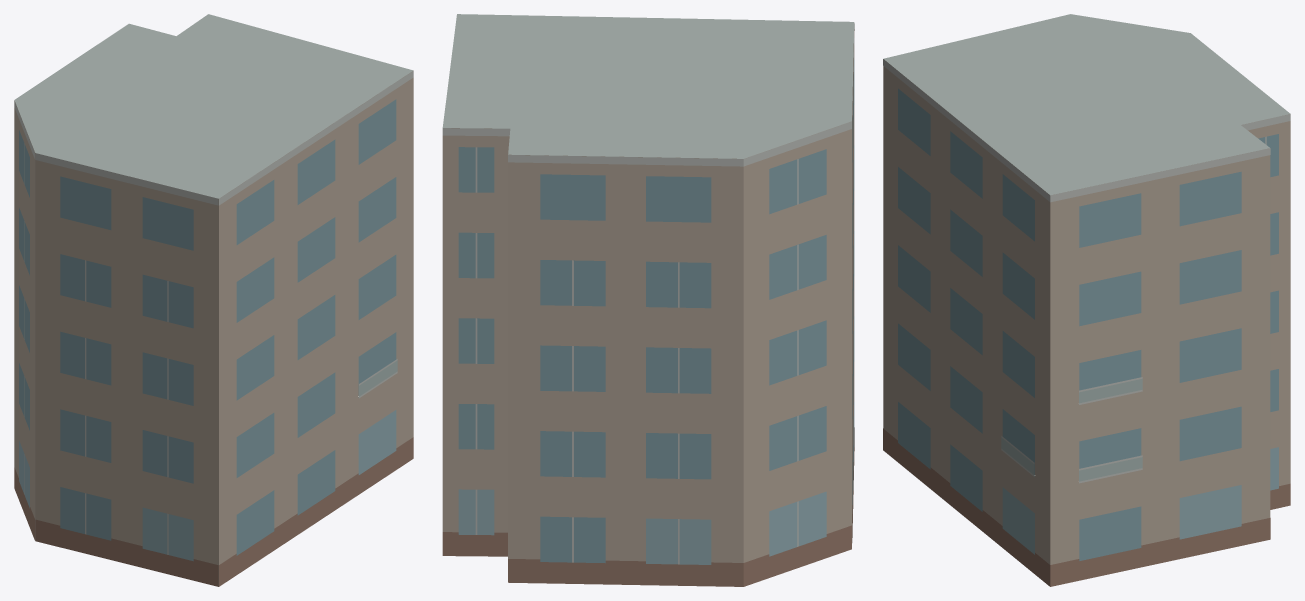
File: survey-upis-32945384.glb
The picture shows the model from 3 angles, left to right: view 1: azimuth 30°, elevation 25°; view 2: azimuth 150°, elevation 25°; view 3: azimuth 270°, elevation 25°; orthographic projection. The views are drawn at different scales.
Visible parts, largest first — view 1: survey-upis-32945384.tmp; view 2: survey-upis-32945384.tmp; view 3: survey-upis-32945384.tmp.
Boxes of the visible parts, box(x1,y1,x2,y2) form: survey-upis-32945384.tmp: box(14, 14, 413, 586); survey-upis-32945384.tmp: box(442, 14, 854, 586); survey-upis-32945384.tmp: box(883, 14, 1290, 586).
Bounding box in the file's own units: 13.57 × 13.65 × 12.88.
